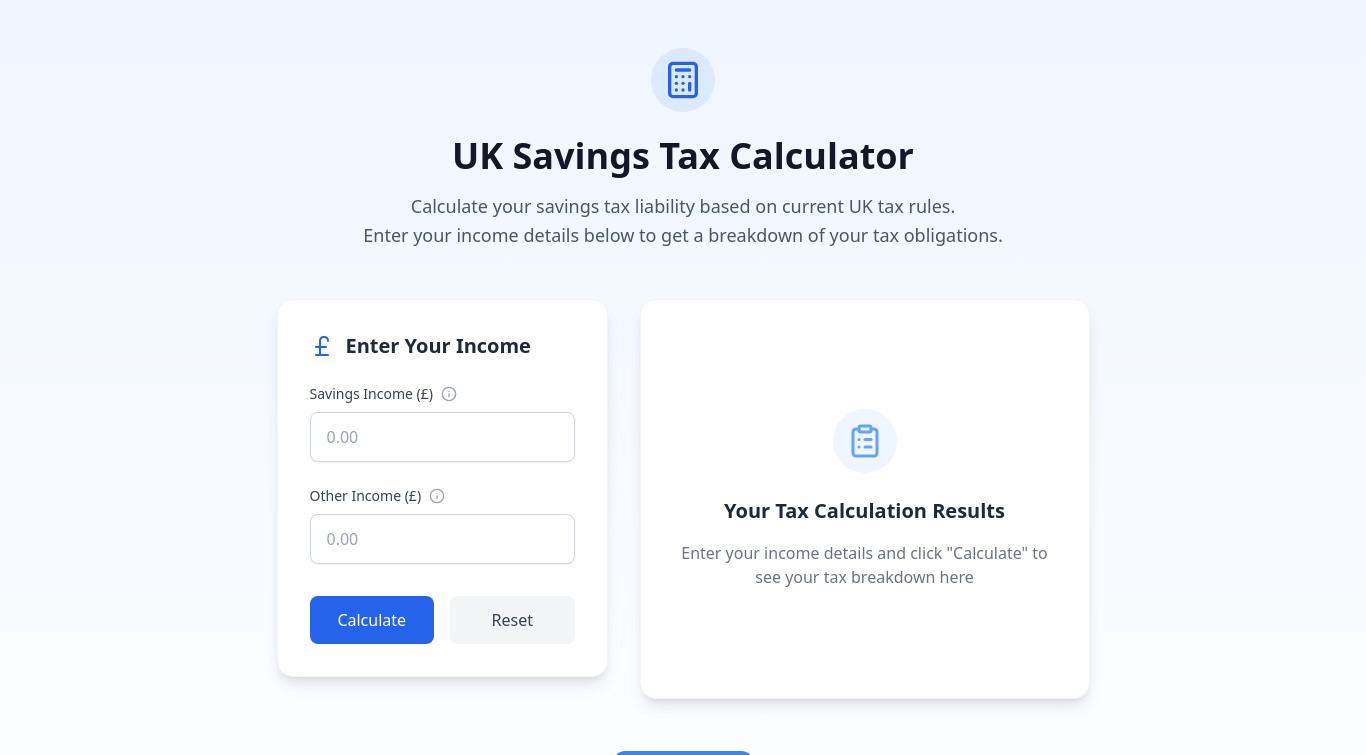
it: calculate the pounds the person submitted › shows the field error and no tax due when a negative figure is the first calculation
In the field with placeholder "0.00" below "Savings Income (£)": (442, 436) 310,412 -> 574,462, type "-1"
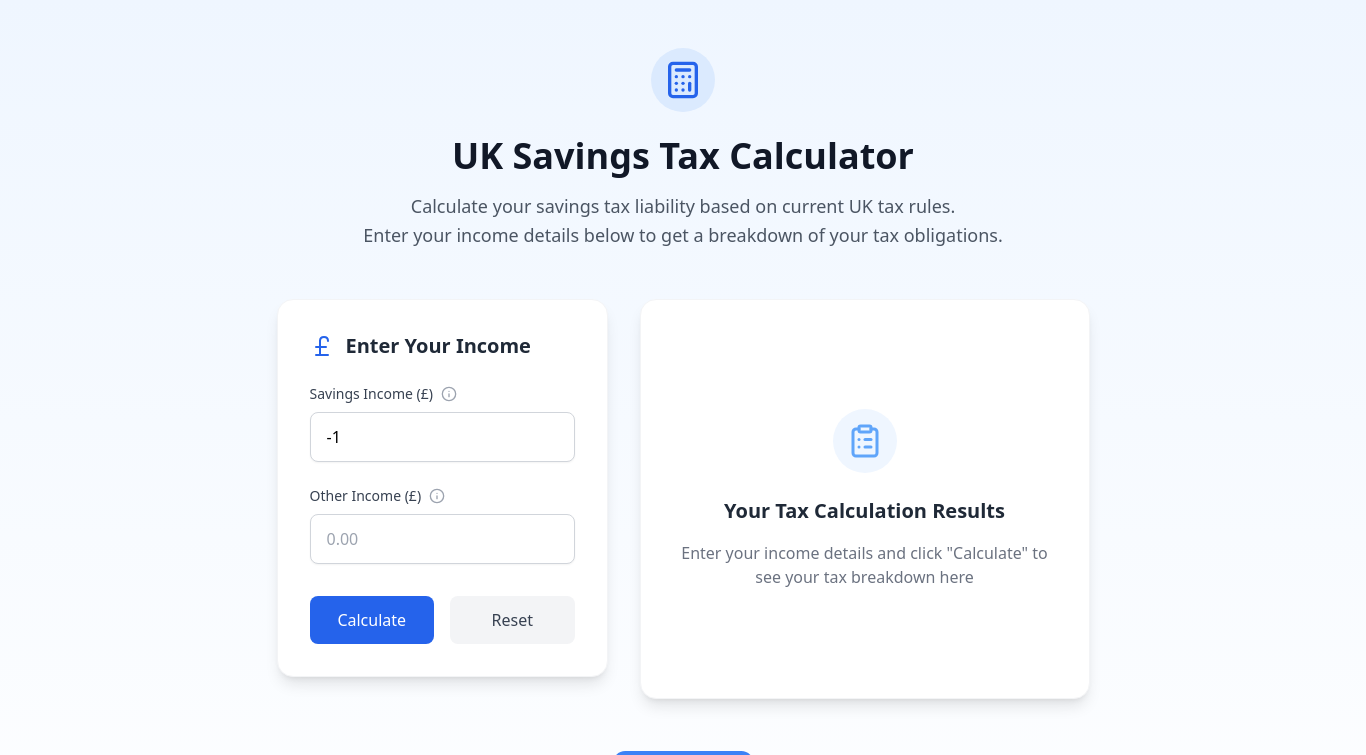
Click the button "Calculate": (372, 620) 310,596 -> 434,644
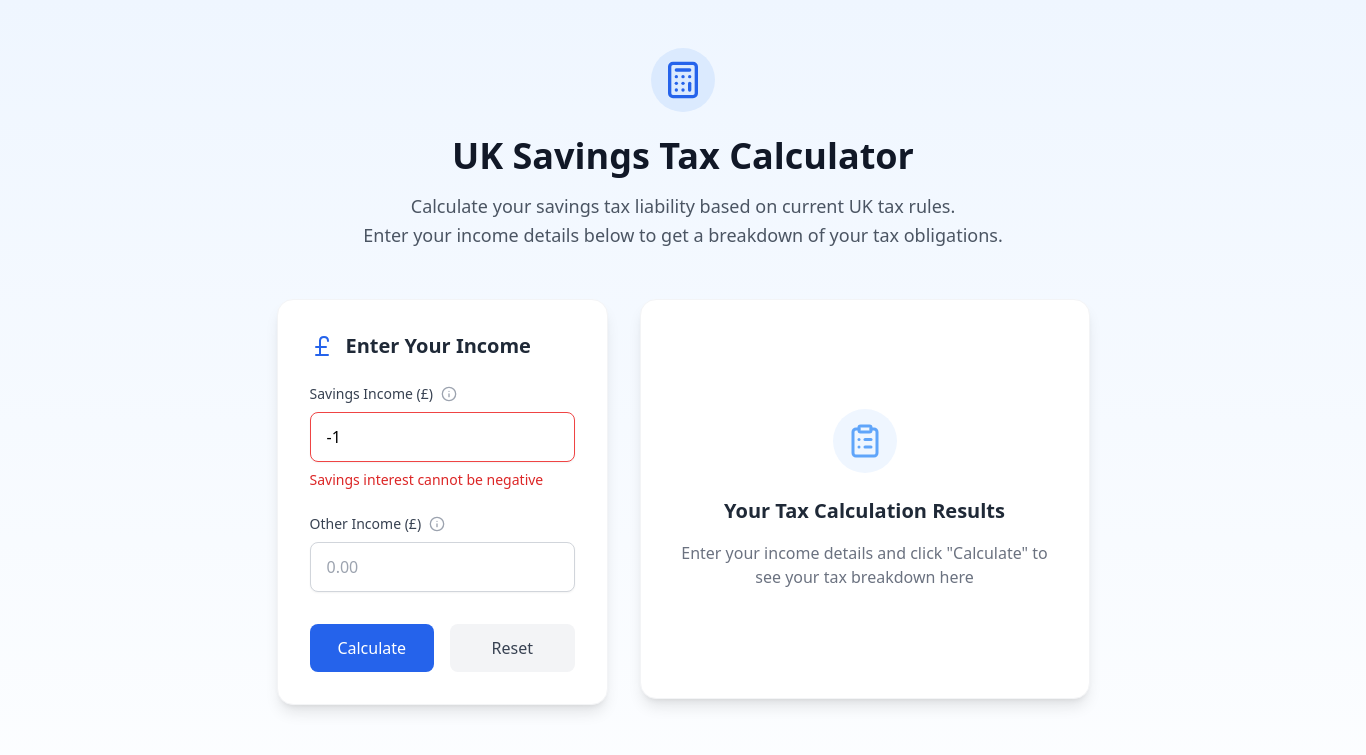
Check: the text "Savings interest cannot be negative" is shown, box 310,470 -> 574,490
